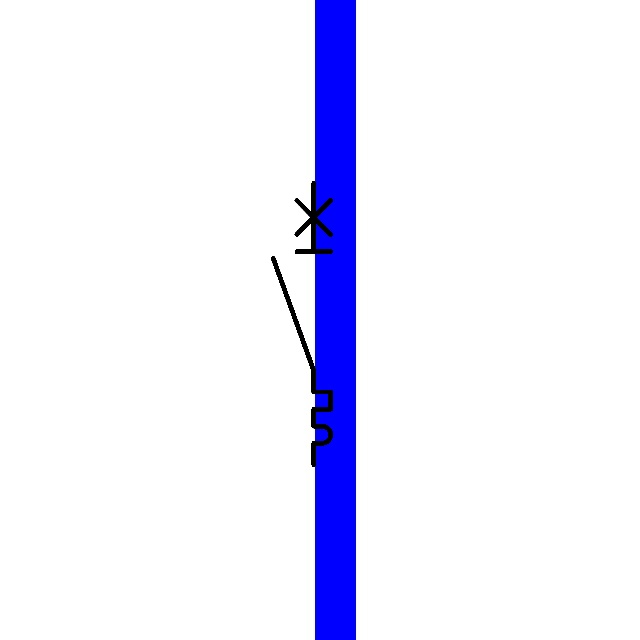interruptor_termomagnetico: (266, 176, 338, 472)
